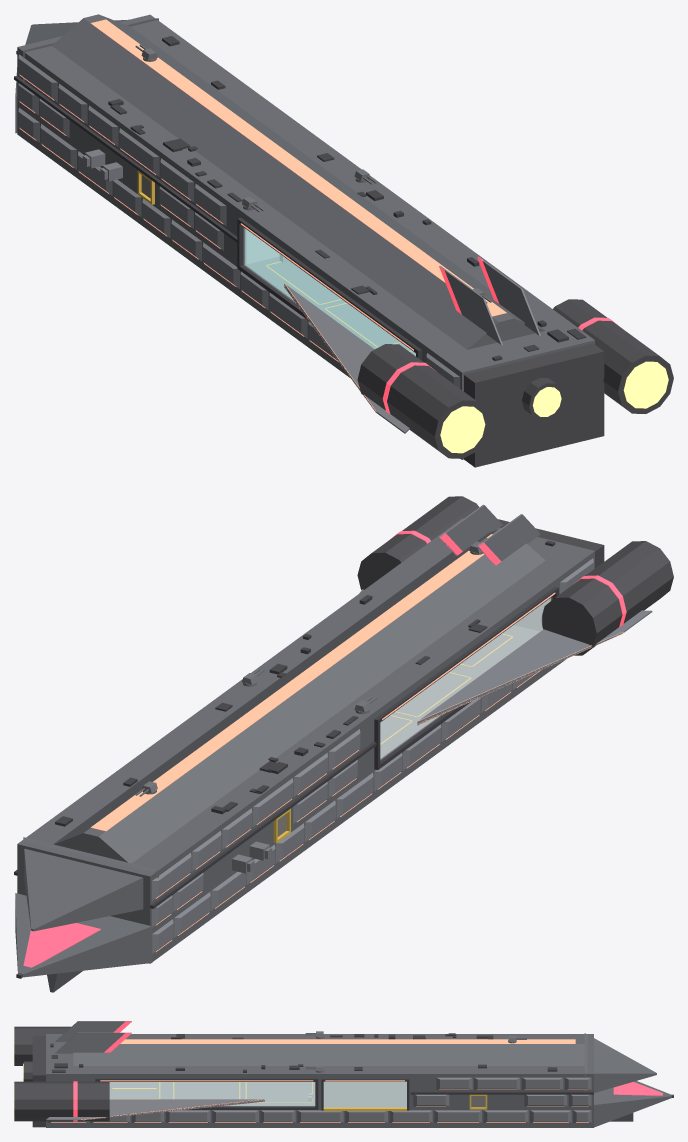
The model's file is ship_MEDIUM_v2.glb.
3 renders of one model, top to bottom at view 1: azimuth 30°, elevation 25°; view 2: azimuth 150°, elevation 25°; view 3: azimuth 270°, elevation 25°, orthographic. The views are drawn at different scales.
Parts seen in each view (by area): view 1: MEDIUM_Hull-col, MEDIUM_Engines, MEDIUM_Armor, MEDIUM_Lights, MEDIUM_HangarShield_Port, MEDIUM_EngineGlow, MEDIUM_Trim, MEDIUM_Decks-col, MEDIUM_Details, MEDIUM_Accent, MEDIUM_Interior-col; view 2: MEDIUM_Hull-col, MEDIUM_Armor, MEDIUM_Engines, MEDIUM_Lights, MEDIUM_HangarShield_Port, MEDIUM_Decks-col, MEDIUM_Trim, MEDIUM_Accent, MEDIUM_Details; view 3: MEDIUM_Hull-col, MEDIUM_Armor, MEDIUM_Engines, MEDIUM_HangarShield_Starboard, MEDIUM_Decks-col, MEDIUM_Lights, MEDIUM_Trim, MEDIUM_CargoBayShield, MEDIUM_CargoBayDoor-col, MEDIUM_Details, MEDIUM_Accent, MEDIUM_Hazard.
Boxes of the visible parts, left/top/right/bottom form: MEDIUM_Hull-col: left=15, top=14, right=594, bottom=459; MEDIUM_Engines: left=16, top=51, right=673, bottom=467; MEDIUM_Armor: left=18, top=54, right=540, bottom=433; MEDIUM_Lights: left=19, top=19, right=506, bottom=412; MEDIUM_HangarShield_Port: left=244, top=228, right=415, bottom=355; MEDIUM_EngineGlow: left=440, top=361, right=668, bottom=453; MEDIUM_Trim: left=14, top=76, right=421, bottom=360; MEDIUM_Decks-col: left=247, top=256, right=415, bottom=355; MEDIUM_Details: left=108, top=36, right=586, bottom=361; MEDIUM_Accent: left=382, top=256, right=620, bottom=413; MEDIUM_Interior-col: left=246, top=229, right=279, bottom=264; MEDIUM_Hull-col: left=15, top=518, right=594, bottom=992; MEDIUM_Armor: left=152, top=504, right=652, bottom=953; MEDIUM_Engines: left=16, top=496, right=673, bottom=978; MEDIUM_Lights: left=91, top=534, right=623, bottom=951; MEDIUM_HangarShield_Port: left=380, top=598, right=550, bottom=758; MEDIUM_Decks-col: left=380, top=625, right=539, bottom=757; MEDIUM_Trim: left=14, top=587, right=558, bottom=908; MEDIUM_Accent: left=23, top=530, right=626, bottom=967; MEDIUM_Details: left=55, top=540, right=555, bottom=826; MEDIUM_Hull-col: left=46, top=1033, right=671, bottom=1127; MEDIUM_Armor: left=46, top=1021, right=591, bottom=1122; MEDIUM_Engines: left=14, top=1026, right=673, bottom=1127; MEDIUM_HangarShield_Starboard: left=109, top=1082, right=315, bottom=1105; MEDIUM_Decks-col: left=109, top=1082, right=315, bottom=1105; MEDIUM_Lights: left=51, top=1039, right=588, bottom=1122; MEDIUM_Trim: left=95, top=1078, right=593, bottom=1110; MEDIUM_CargoBayShield: left=323, top=1081, right=406, bottom=1107; MEDIUM_CargoBayDoor-col: left=323, top=1081, right=406, bottom=1106; MEDIUM_Details: left=50, top=1033, right=557, bottom=1072; MEDIUM_Accent: left=73, top=1021, right=662, bottom=1121; MEDIUM_Hazard: left=110, top=1082, right=487, bottom=1110.
Bounding box in the file's own units: 38.81 × 22.95 × 146.
